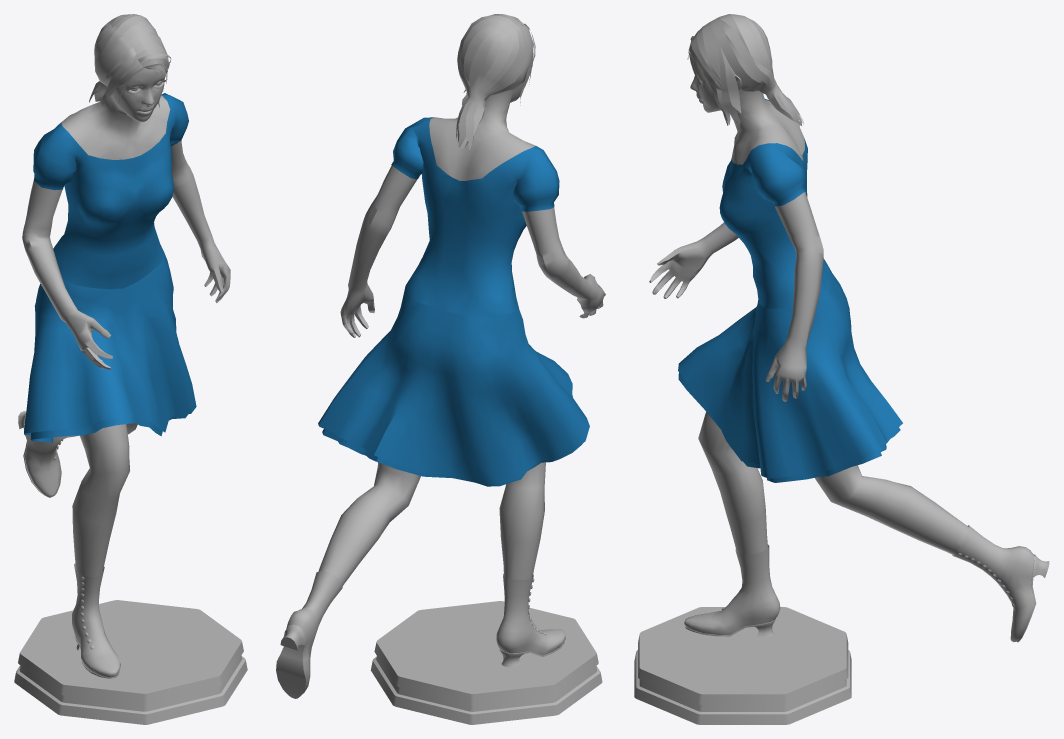
File: alice.fbx
The picture shows the model from 3 angles, left to right: view 1: azimuth 30°, elevation 25°; view 2: azimuth 150°, elevation 25°; view 3: azimuth 270°, elevation 25°; orthographic projection.
Visible parts, largest first — view 1: dress, stand, body, boots, hair; view 2: dress, body, stand, boots, hair; view 3: dress, body, stand, boots, hair.
Boxes of the visible parts, x1,y1,x2,y2 form: dress: (24,93,196,442); stand: (14,600,247,724); body: (22,63,230,577); boots: (18,411,120,678); hair: (89,14,171,107); dress: (318,117,589,486); body: (318,65,605,586); stand: (370,601,602,724); boots: (276,571,565,698); hair: (456,14,535,149); dress: (678,99,902,482); body: (649,54,968,555); stand: (634,607,851,724); boots: (684,525,1049,642); hair: (687,14,803,129).
Bounding box in the file's own units: 0.6537 × 1.85 × 1.06.
